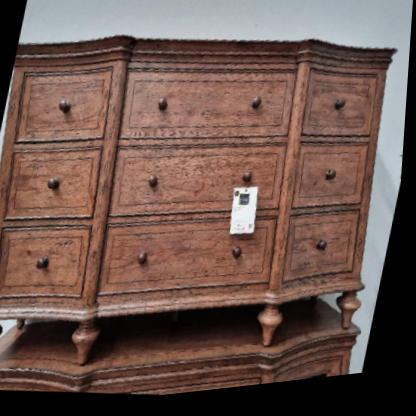Sideboard: (0, 38, 398, 368)
